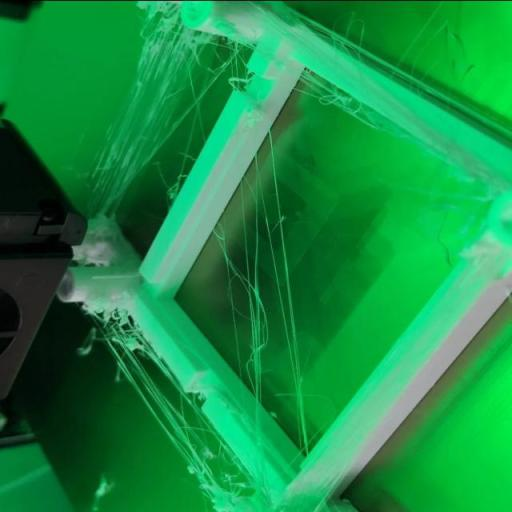stringing: (80, 299, 247, 508), (71, 2, 225, 209), (257, 148, 312, 436), (236, 144, 274, 501), (284, 64, 394, 133)
